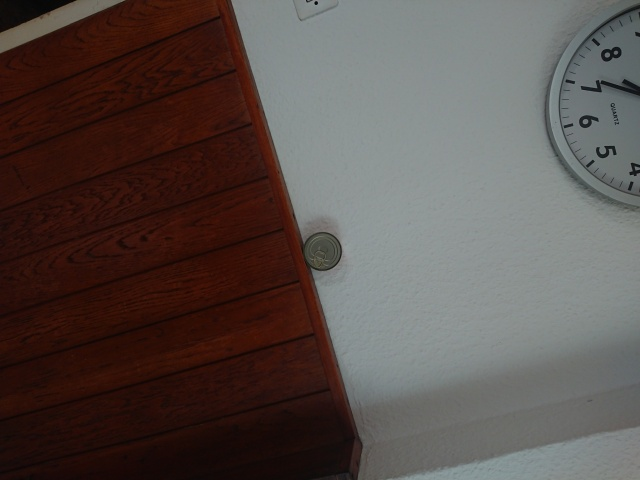Gavrilovic Pork Liver Pate 100g: (301, 230, 343, 272)
